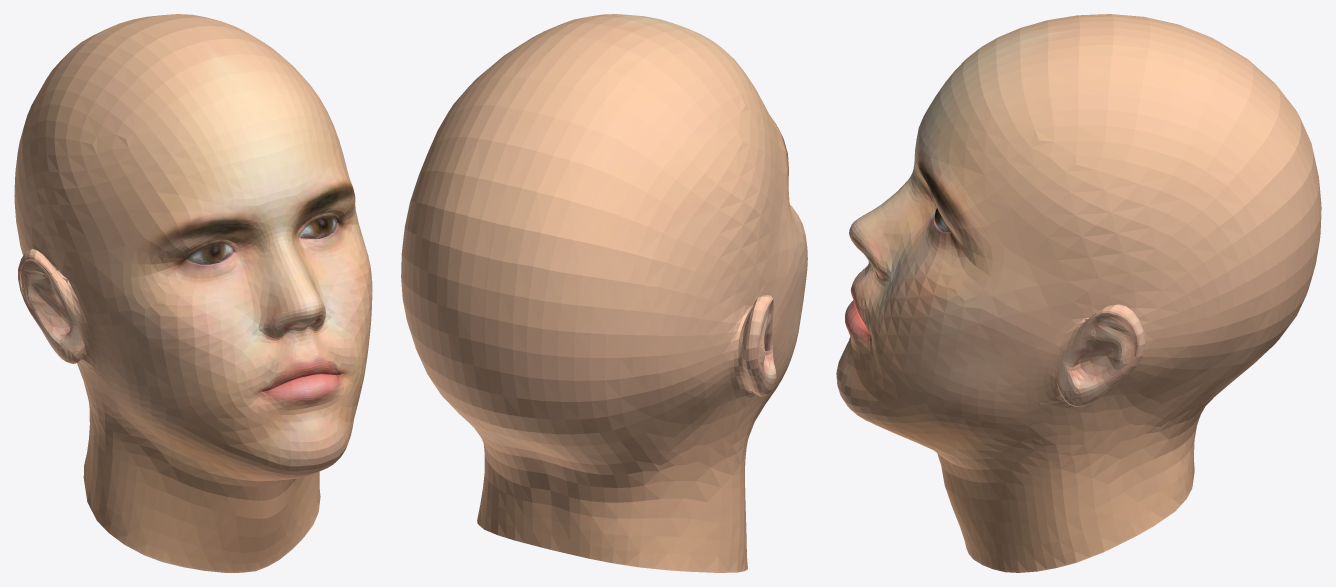
File: GoodBieber.obj
3 renders of one model, left to right at view 1: azimuth 30°, elevation 25°; view 2: azimuth 150°, elevation 25°; view 3: azimuth 270°, elevation 25°, orthographic. The views are drawn at different scales.
Visible parts, largest first — view 1: skin_hi, eyeR_hi, eyeL_hi; view 2: skin_hi; view 3: skin_hi.
Part boxes in pixels (<box>): skin_hi: <box>14,14,372,572</box>; eyeR_hi: <box>186,243,232,264</box>; eyeL_hi: <box>299,216,337,238</box>; skin_hi: <box>401,14,807,572</box>; skin_hi: <box>836,14,1321,572</box>.
Size of the model in its own units: 187 by 281 by 238.
Materials: 7 (7 with a texture image).
